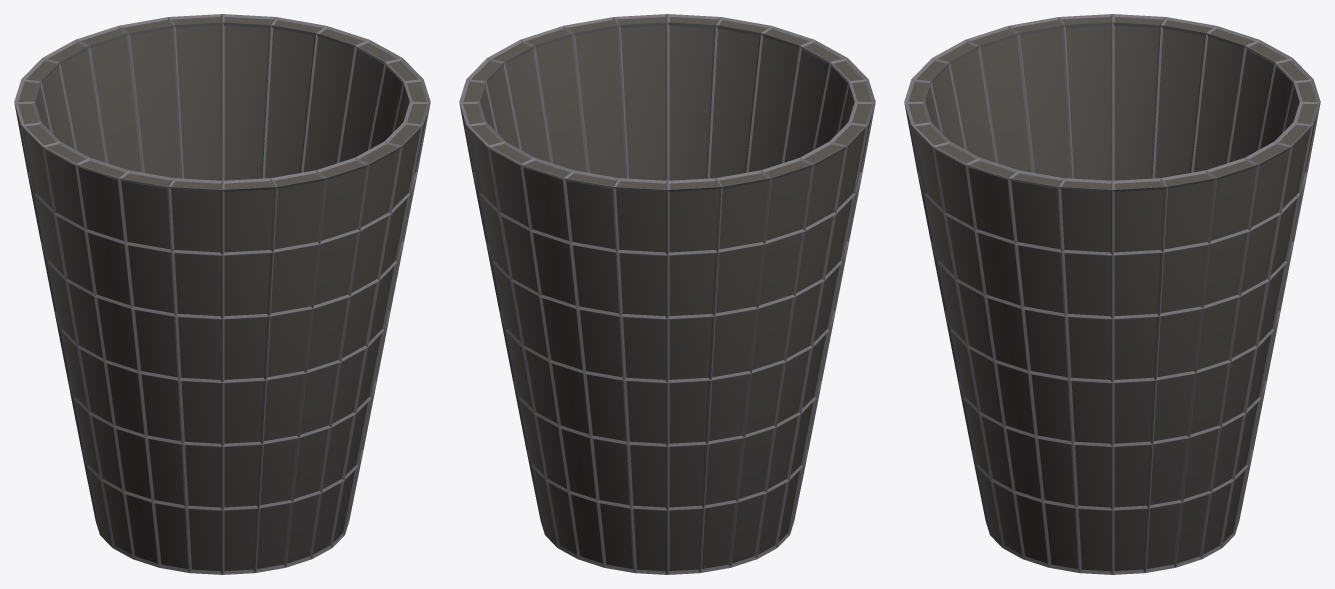
Rendered from Small Trash Bin.fbx.
The picture shows the model from 3 angles, left to right: view 1: azimuth 30°, elevation 25°; view 2: azimuth 150°, elevation 25°; view 3: azimuth 270°, elevation 25°; orthographic projection.
Parts seen in each view (by area): view 1: Trash Bin; view 2: Trash Bin; view 3: Trash Bin.
Boxes of the visible parts, left/top/right/bottom form: Trash Bin: left=14, top=14, right=430, bottom=574; Trash Bin: left=459, top=14, right=875, bottom=574; Trash Bin: left=904, top=14, right=1320, bottom=574.
Bounding box in the file's own units: 202 × 224 × 202.
